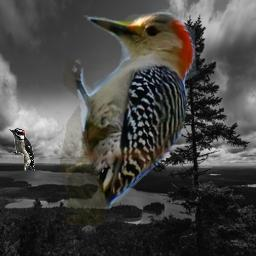Woodpecker: (59, 2, 222, 225), (8, 128, 35, 171)
